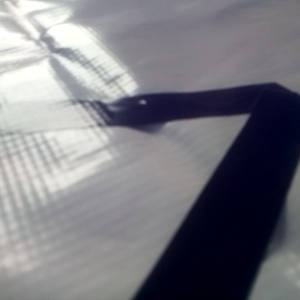bottom_right: (26, 128, 201, 229)
